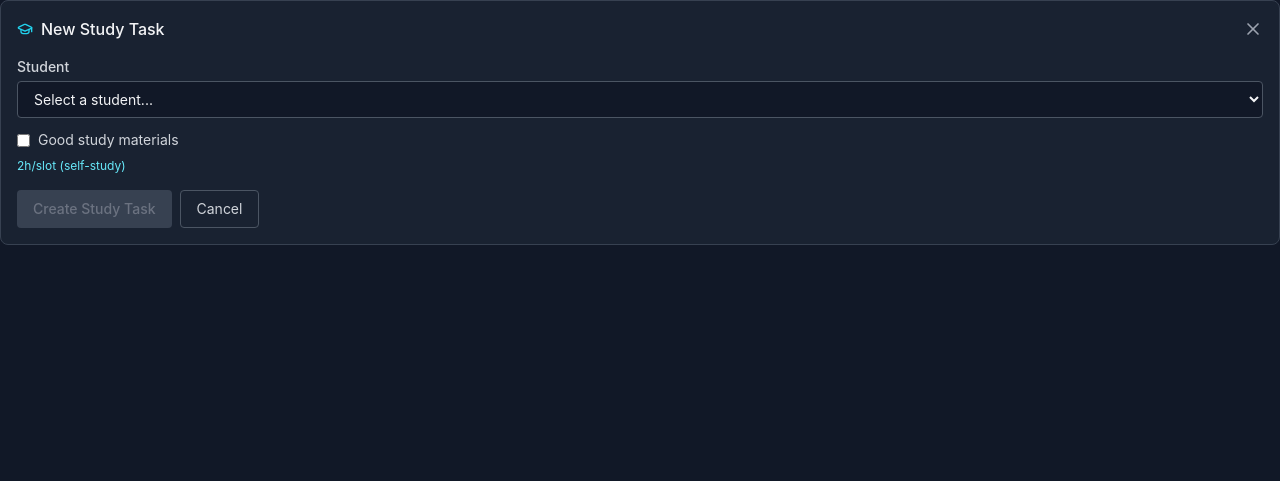
Test: StudyTaskForm › prefills attribute and difficulty from an existing skill
Select "Rina" in the dropdown with test id "leader-select". click: (640, 100)
box: [17,81,1263,118]
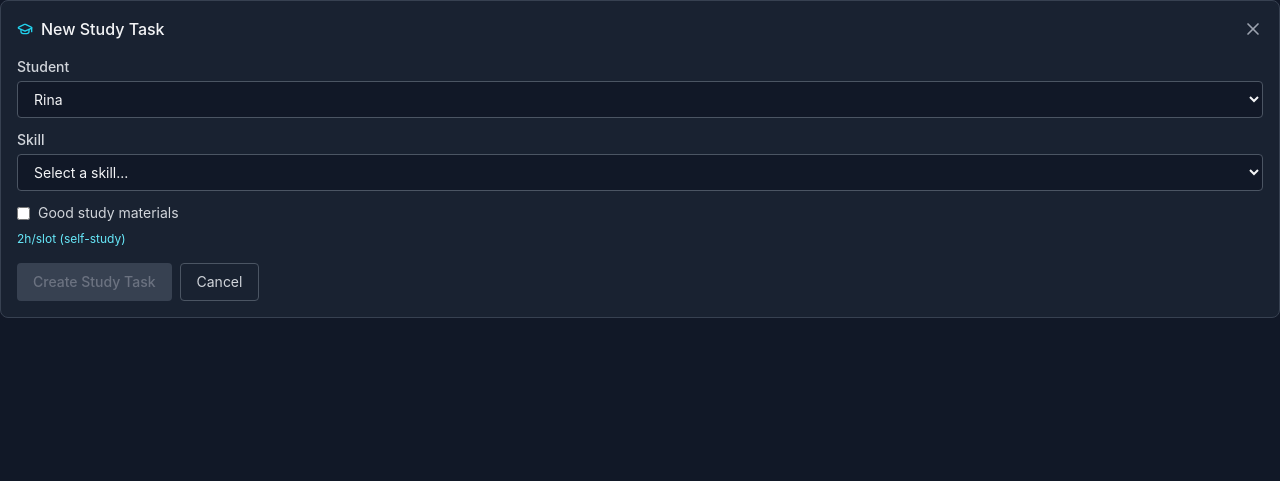
Select "Research — 11, IQ" in the dropdown with test id "skill-select". click: (640, 172)
box: [17,154,1263,191]
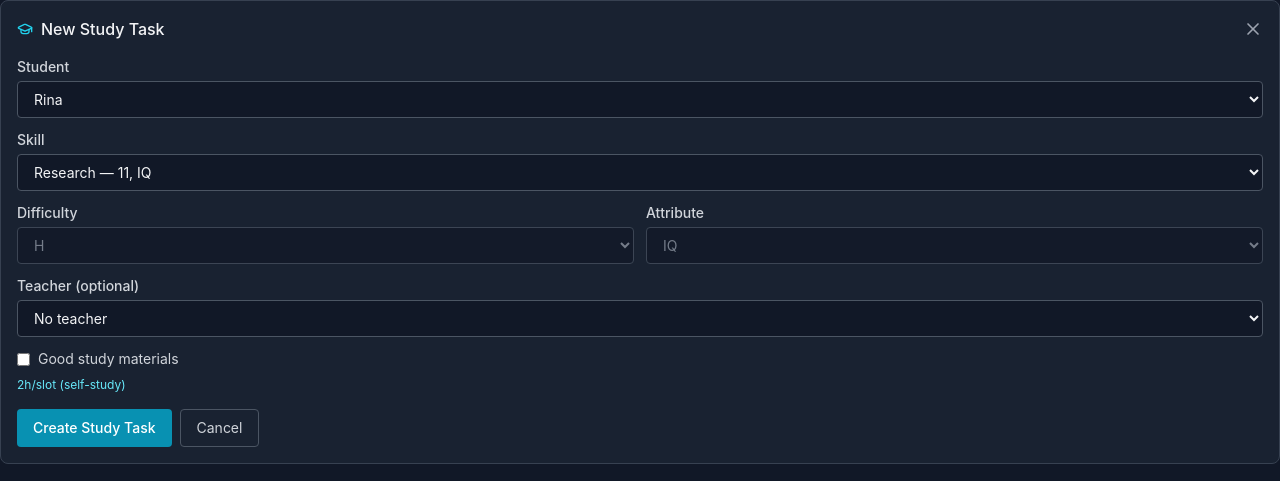
Check: the dropdown with test id "attribute-select" shows "IQ", box [646,227,1263,264]
Check: the dropdown with test id "difficulty-select" shows "H", box [17,227,634,264]
